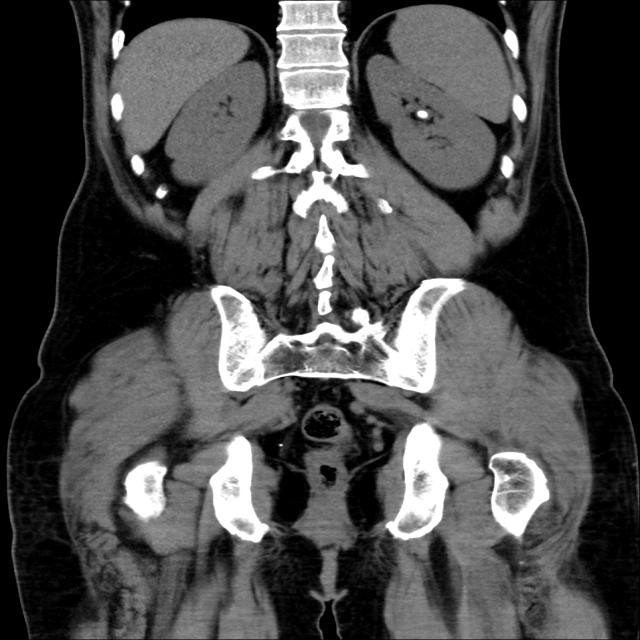kidneystone: (378, 199, 392, 214)
